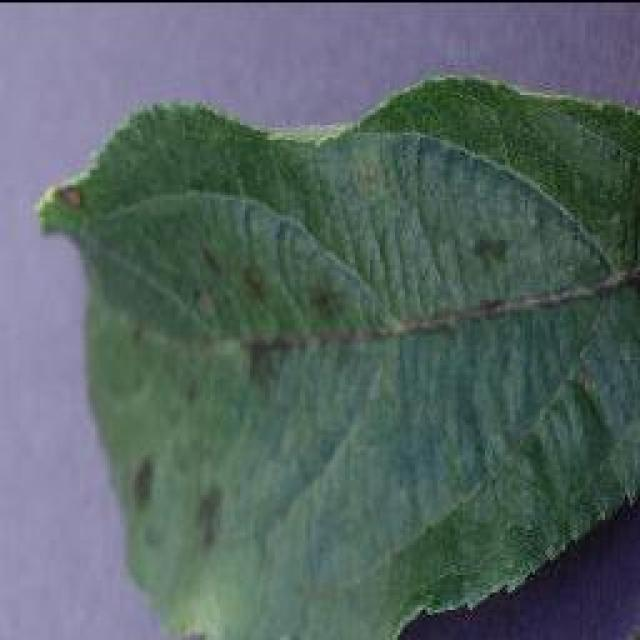Apple___Apple_scab: (31, 68, 638, 638)
